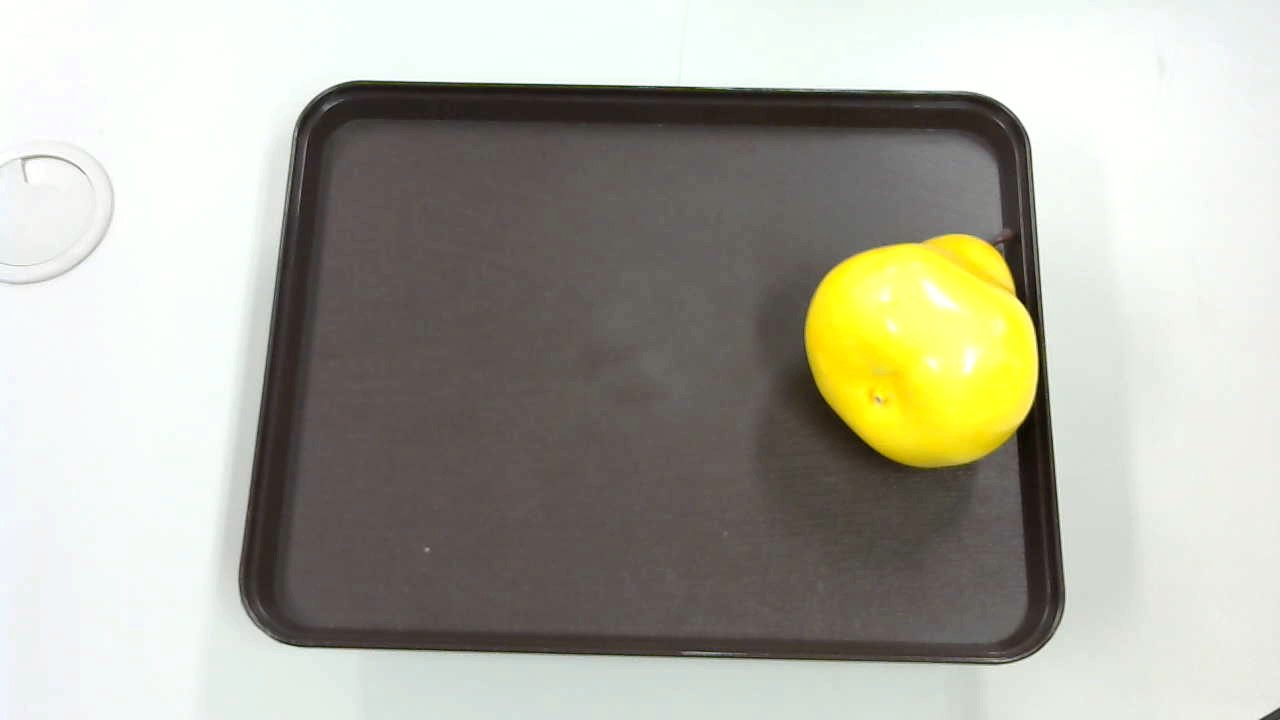yellow pear: (793, 219, 1047, 468)
